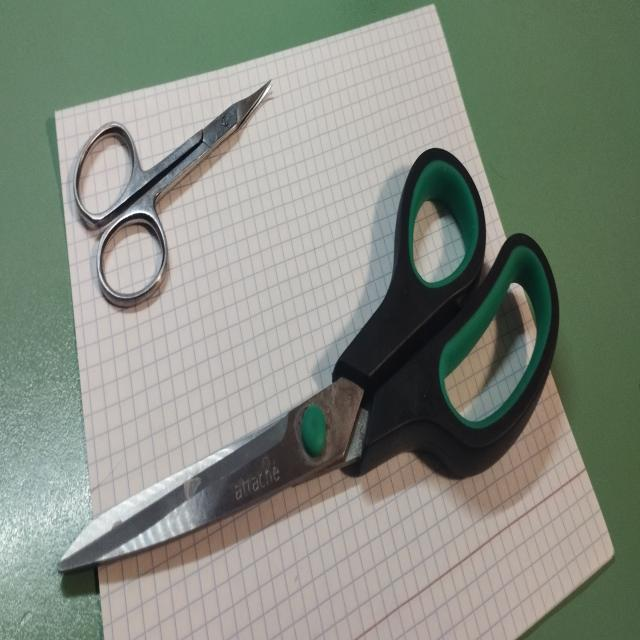tesoura: (39, 101, 572, 601), (71, 70, 273, 314)
